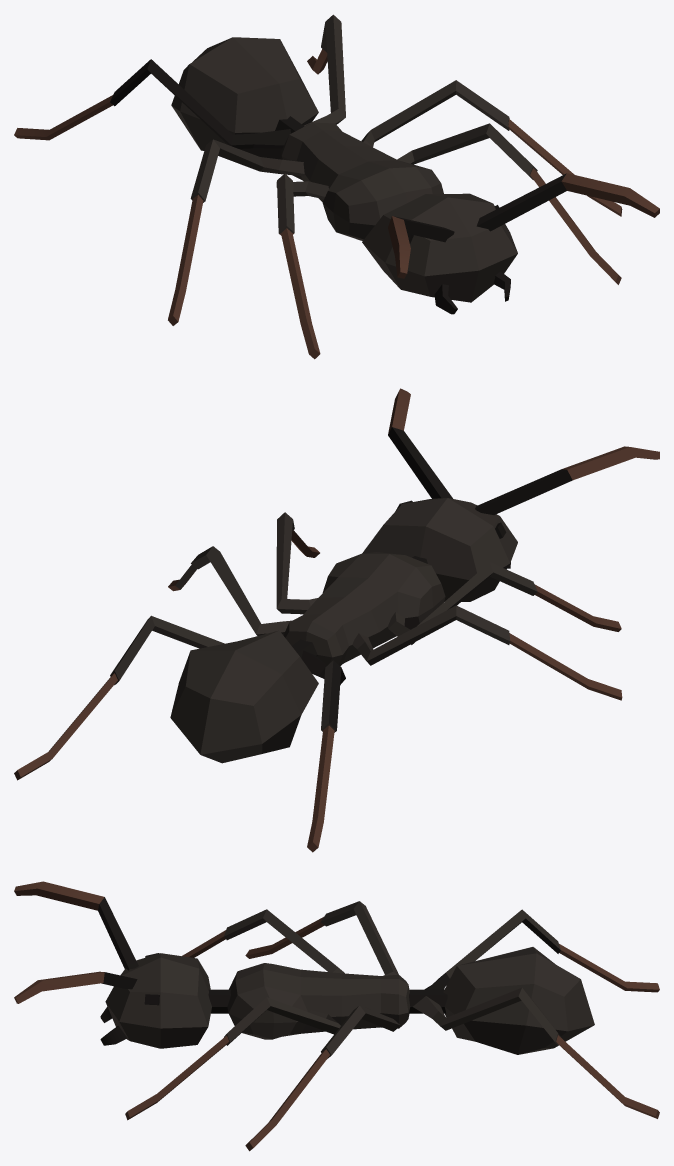
The model's file is ant.glb.
3 views of the same model, one above another, from view 1: azimuth 30°, elevation 25°; view 2: azimuth 150°, elevation 25°; view 3: azimuth 270°, elevation 25° (orthographic). The views are drawn at different scales.
Parts seen in each view (by area): view 1: Geo_Ant; view 2: Geo_Ant; view 3: Geo_Ant.
Part boxes in pixels (x1,y1,x2,y2): Geo_Ant: (14, 14, 659, 359); Geo_Ant: (14, 388, 659, 852); Geo_Ant: (14, 881, 659, 1151).
Bounding box in the file's own units: 49.32 × 14.72 × 69.04.
1 material, 1 textured.
